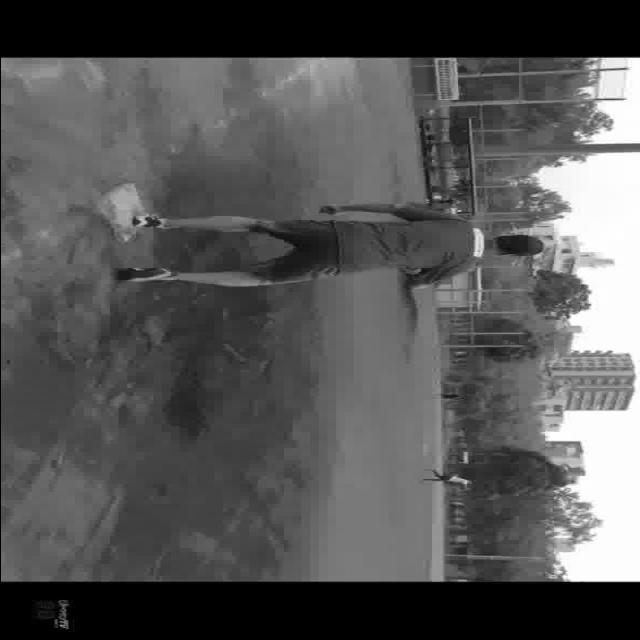base: (91, 183, 146, 244)
shoe: (116, 266, 174, 284), (136, 214, 163, 230)
